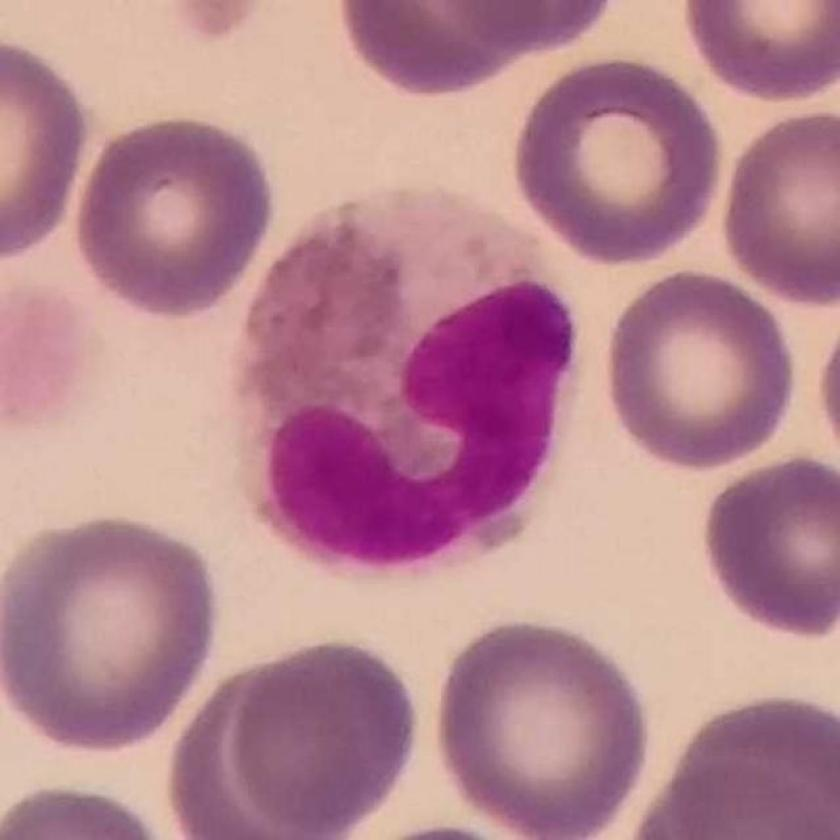eosinophil: (223, 185, 578, 588)
